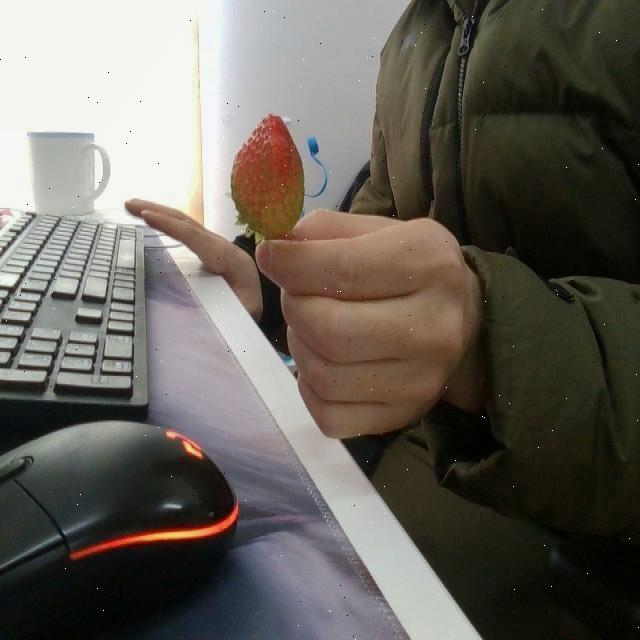ripe: (230, 108, 308, 243)
